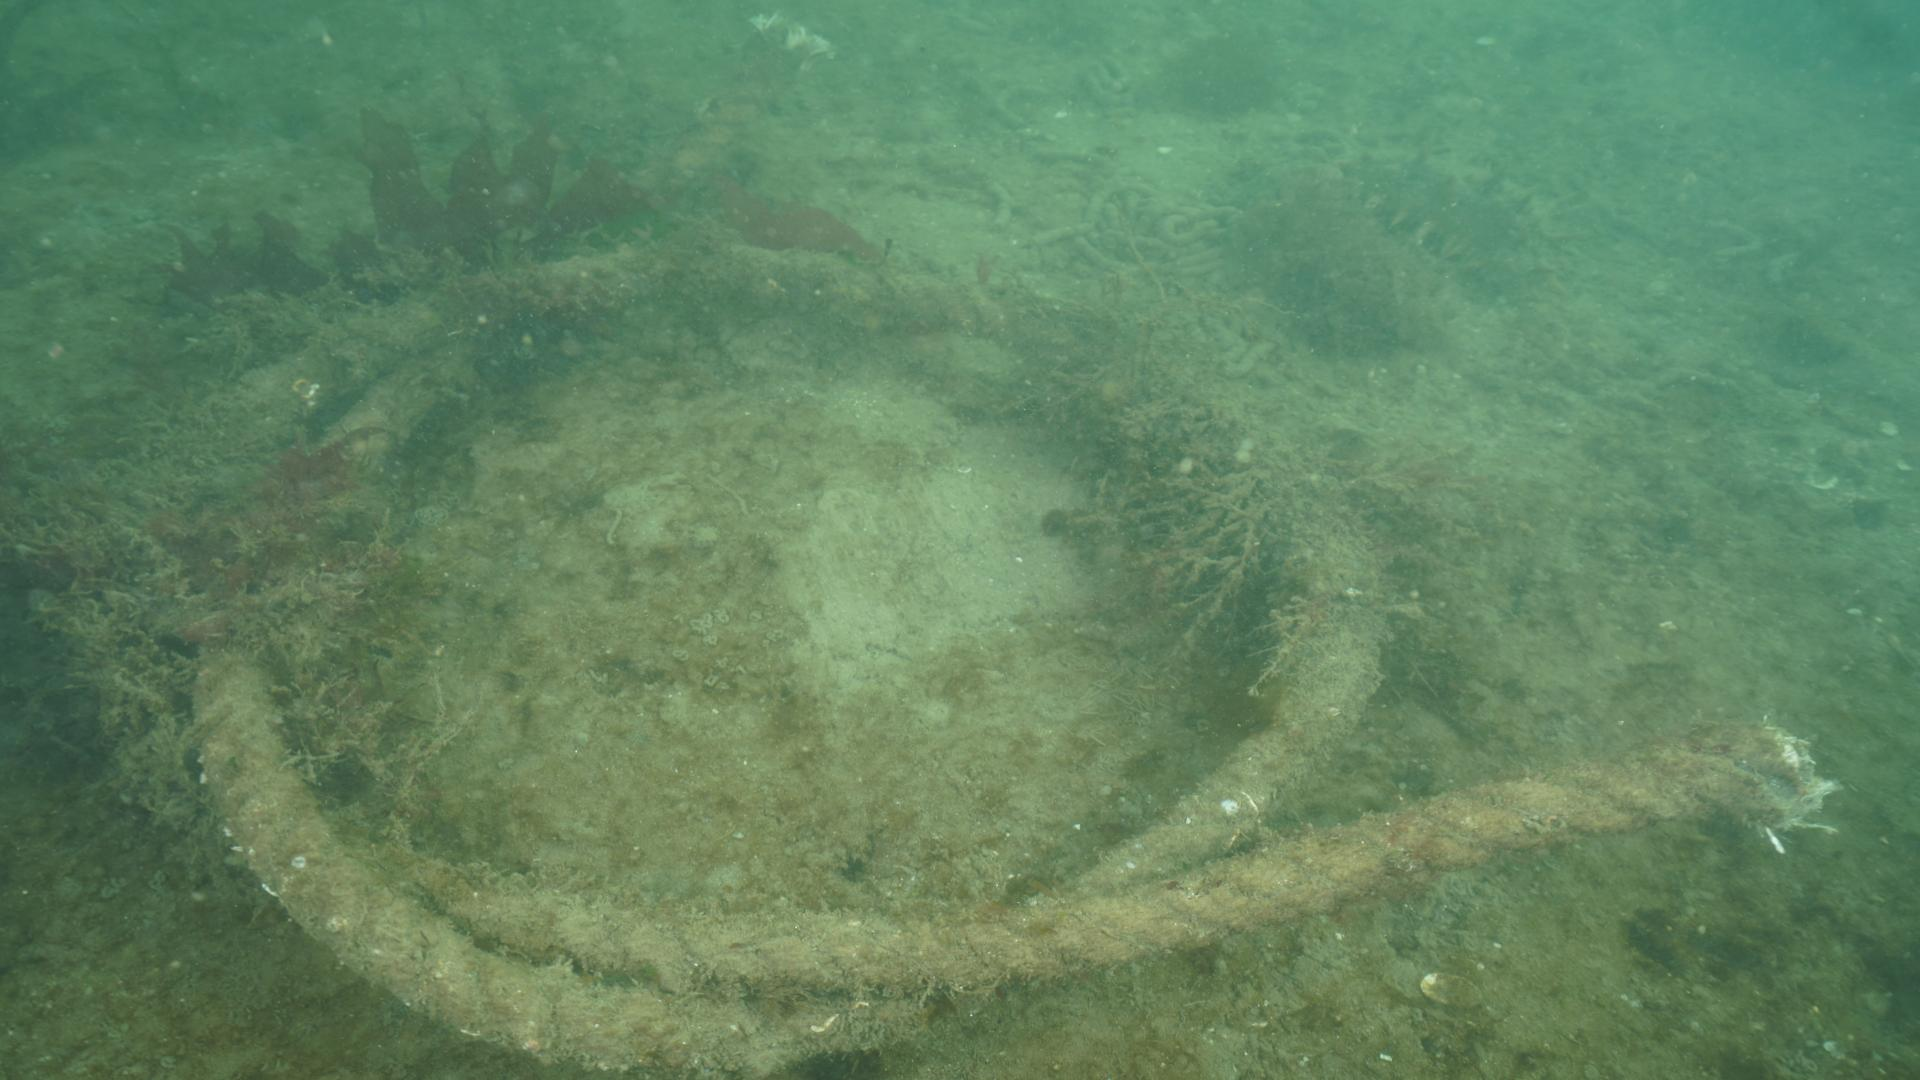bundle of ropes: (198, 229, 1771, 1080)
